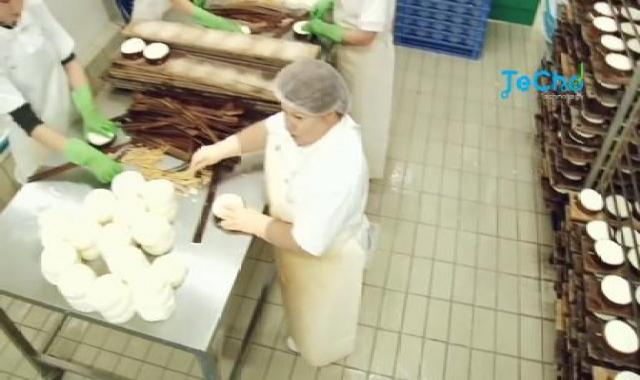hairnet: (270, 60, 350, 119)
